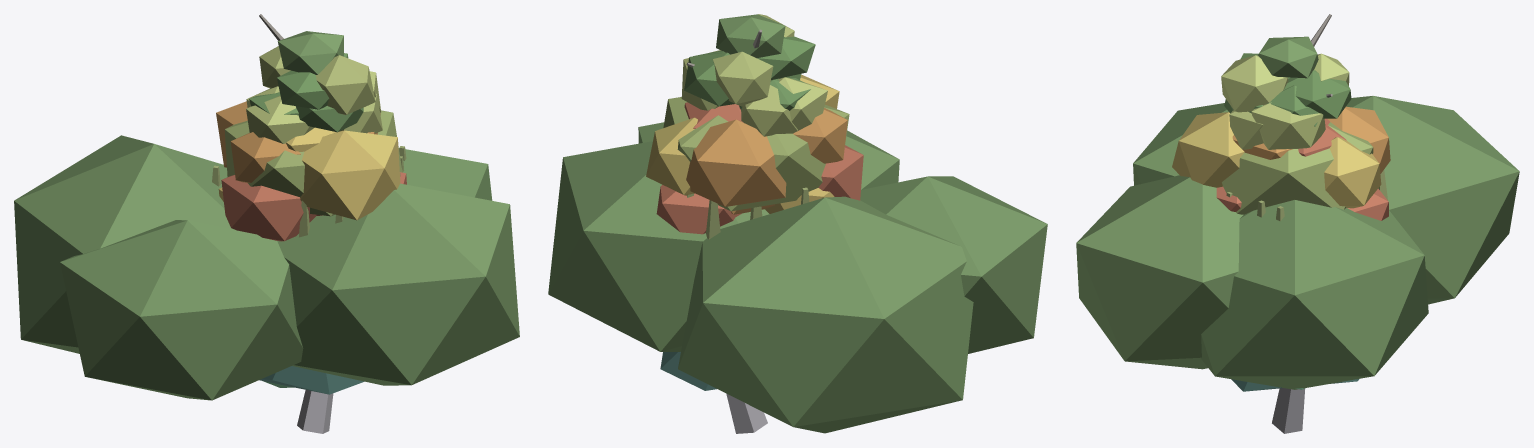
File: tree-kit.glb
3 renders of one model, left to right at view 1: azimuth 30°, elevation 25°; view 2: azimuth 150°, elevation 25°; view 3: azimuth 270°, elevation 25°, orthographic. The views are drawn at different scales.
Visible parts, largest first — view 1: tree_bush, tree_autumn_yellow, tree_birch, tree_pine, tree_autumn_red, tree_willow, tree_autumn_orange, tree_spruce_dark, tree_fairy_gold; view 2: tree_bush, tree_autumn_orange, tree_birch, tree_pine, tree_willow, tree_autumn_red, tree_autumn_yellow, tree_fairy_gold, tree_spruce_dark; view 3: tree_bush, tree_autumn_yellow, tree_birch, tree_willow, tree_pine, tree_autumn_orange, tree_autumn_red, tree_fairy_gold.
Boxes of the visible parts, x1,y1,x2,y2 form: tree_bush: [14, 135, 519, 400]; tree_autumn_yellow: [218, 127, 400, 220]; tree_birch: [246, 46, 382, 143]; tree_pine: [249, 31, 363, 132]; tree_autumn_red: [221, 172, 406, 241]; tree_willow: [212, 110, 406, 237]; tree_autumn_orange: [216, 101, 380, 182]; tree_spruce_dark: [259, 366, 364, 394]; tree_fairy_gold: [297, 390, 333, 433]; tree_bush: [548, 122, 1047, 433]; tree_autumn_orange: [686, 108, 847, 214]; tree_birch: [681, 14, 827, 136]; tree_pine: [684, 14, 815, 110]; tree_willow: [663, 97, 849, 239]; tree_autumn_red: [656, 102, 863, 234]; tree_autumn_yellow: [646, 74, 839, 213]; tree_fairy_gold: [726, 393, 767, 433]; tree_spruce_dark: [660, 352, 716, 390]; tree_bush: [1076, 96, 1519, 389]; tree_autumn_yellow: [1172, 112, 1381, 208]; tree_birch: [1221, 53, 1349, 149]; tree_willow: [1222, 111, 1387, 221]; tree_pine: [1224, 36, 1351, 126]; tree_autumn_orange: [1232, 106, 1390, 173]; tree_autumn_red: [1216, 118, 1388, 220]; tree_fairy_gold: [1272, 388, 1305, 433].
Bounding box in the file's own units: 1.97 × 1.8 × 1.81.
